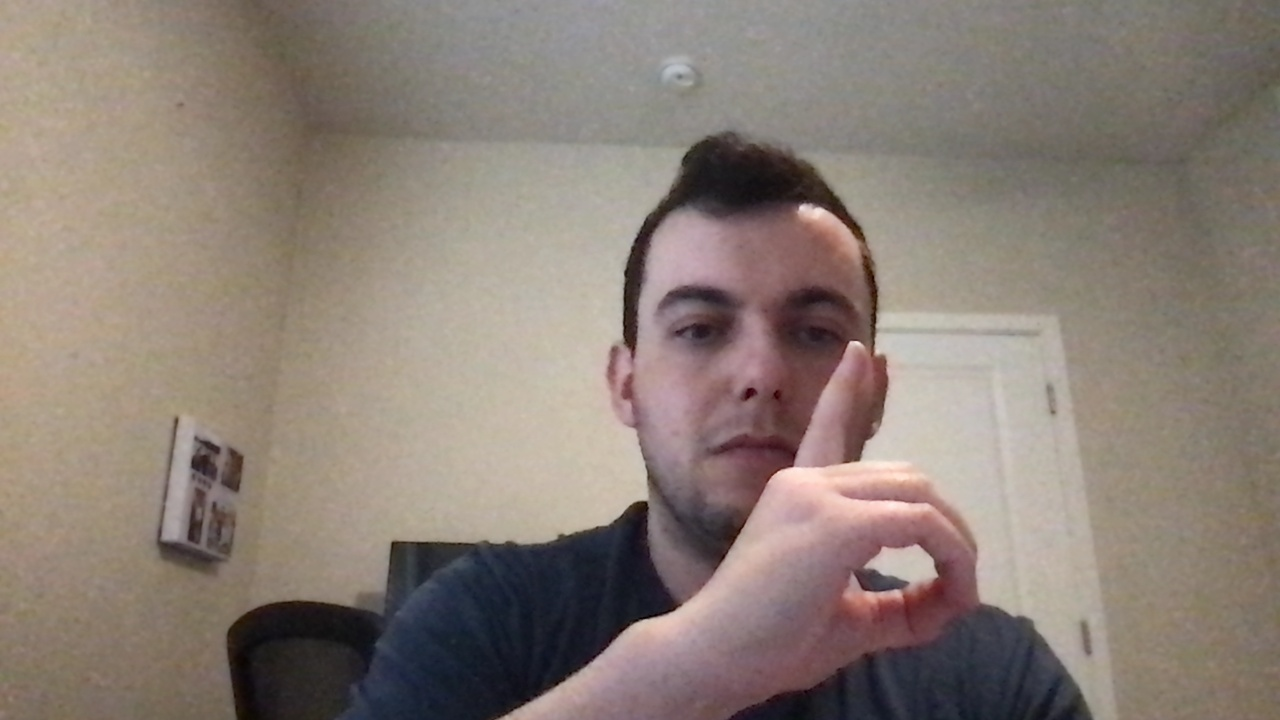d: (706, 334, 1005, 701)
